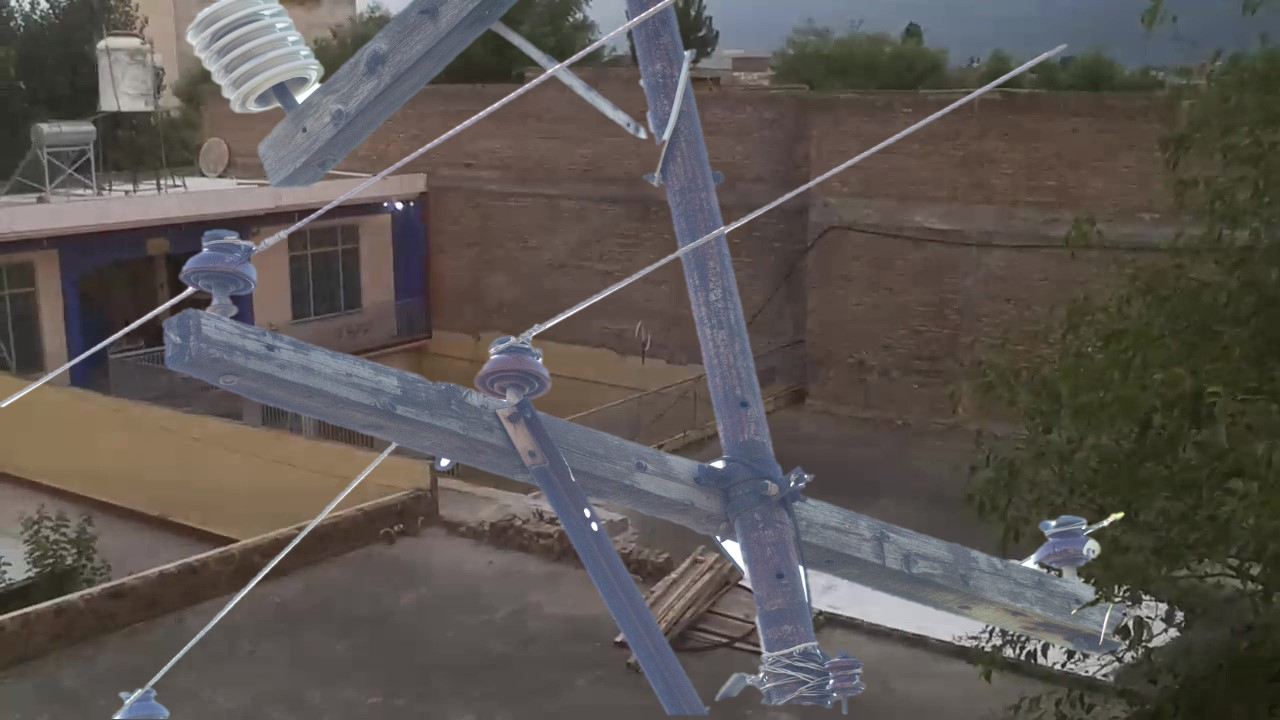defect_pin: (1027, 500, 1104, 577)
insulator_pin: (177, 219, 262, 310), (470, 331, 552, 399)
